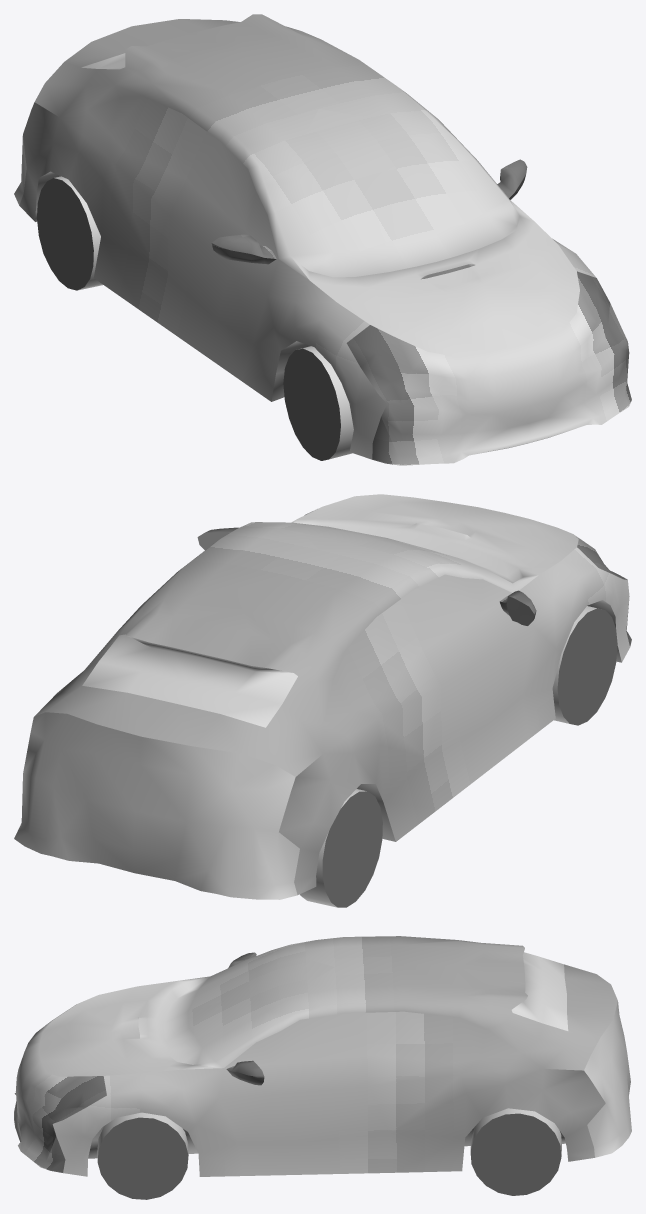
Rendered from car 12.fbx.
3 views of the same model, one above another, from view 1: azimuth 30°, elevation 25°; view 2: azimuth 150°, elevation 25°; view 3: azimuth 270°, elevation 25° (orthographic). The views are drawn at different scales.
Visible parts, largest first — view 1: body, t2, t1; view 2: body, t1, t2; view 3: body, t4, t3.
Part boxes in pixels (x1,y1,x2,y2): body: (14, 14, 631, 465); t2: (283, 346, 353, 460); t1: (37, 176, 102, 290); body: (14, 494, 631, 899); t1: (300, 789, 382, 907); t2: (552, 606, 617, 725); body: (14, 936, 631, 1176); t4: (97, 1112, 188, 1199); t3: (470, 1108, 561, 1195).
Bounding box in the file's own units: 2.45 × 1.68 × 5.2.
